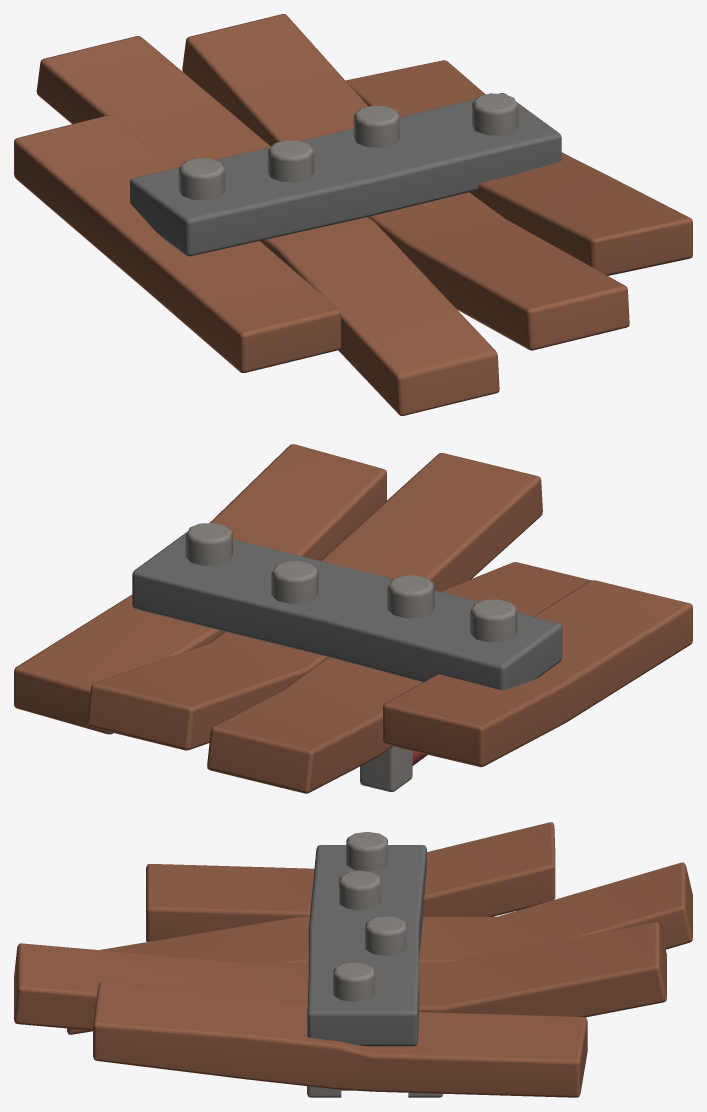
File: Enemy01_Shield01.fbx
3 views of the same model, one above another, from view 1: azimuth 30°, elevation 25°; view 2: azimuth 150°, elevation 25°; view 3: azimuth 270°, elevation 25° (orthographic). The views are drawn at different scales.
Parts seen in each view (by area): view 1: Enemy01_Shield02; view 2: Enemy01_Shield02; view 3: Enemy01_Shield02.
Part boxes in pixels (x1,y1,x2,y2): Enemy01_Shield02: [14, 14, 692, 415]; Enemy01_Shield02: [14, 444, 692, 793]; Enemy01_Shield02: [14, 822, 692, 1097].
Bounding box in the file's own units: 26.16 × 9.39 × 36.82.
